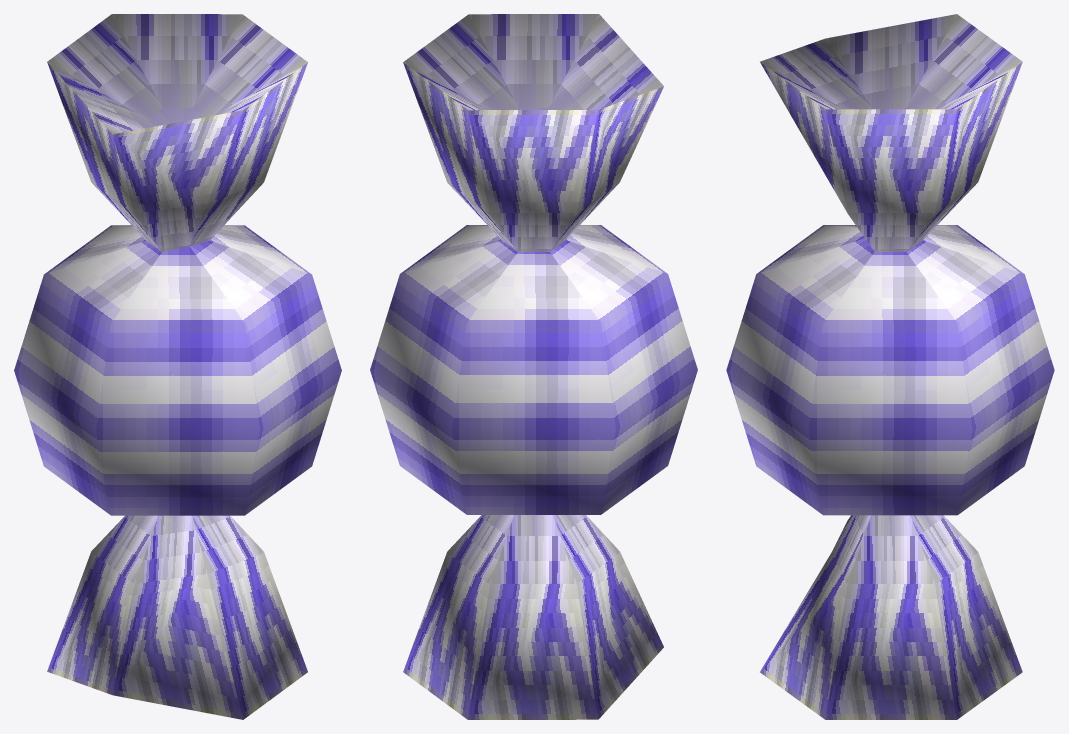
File: hcandyblue.glb
3 renders of one model, left to right at view 1: azimuth 30°, elevation 25°; view 2: azimuth 150°, elevation 25°; view 3: azimuth 270°, elevation 25°, orthographic.
Visible parts, largest first — view 1: model_hcandyblue; view 2: model_hcandyblue; view 3: model_hcandyblue.
Boxes of the visible parts, left/top/right/bottom form: model_hcandyblue: left=14, top=14, right=341, bottom=719; model_hcandyblue: left=370, top=14, right=697, bottom=719; model_hcandyblue: left=726, top=14, right=1054, bottom=719.
Size of the model in its own units: 0.1435 by 0.3399 by 0.1657.
Materials: 1 (1 with a texture image).
